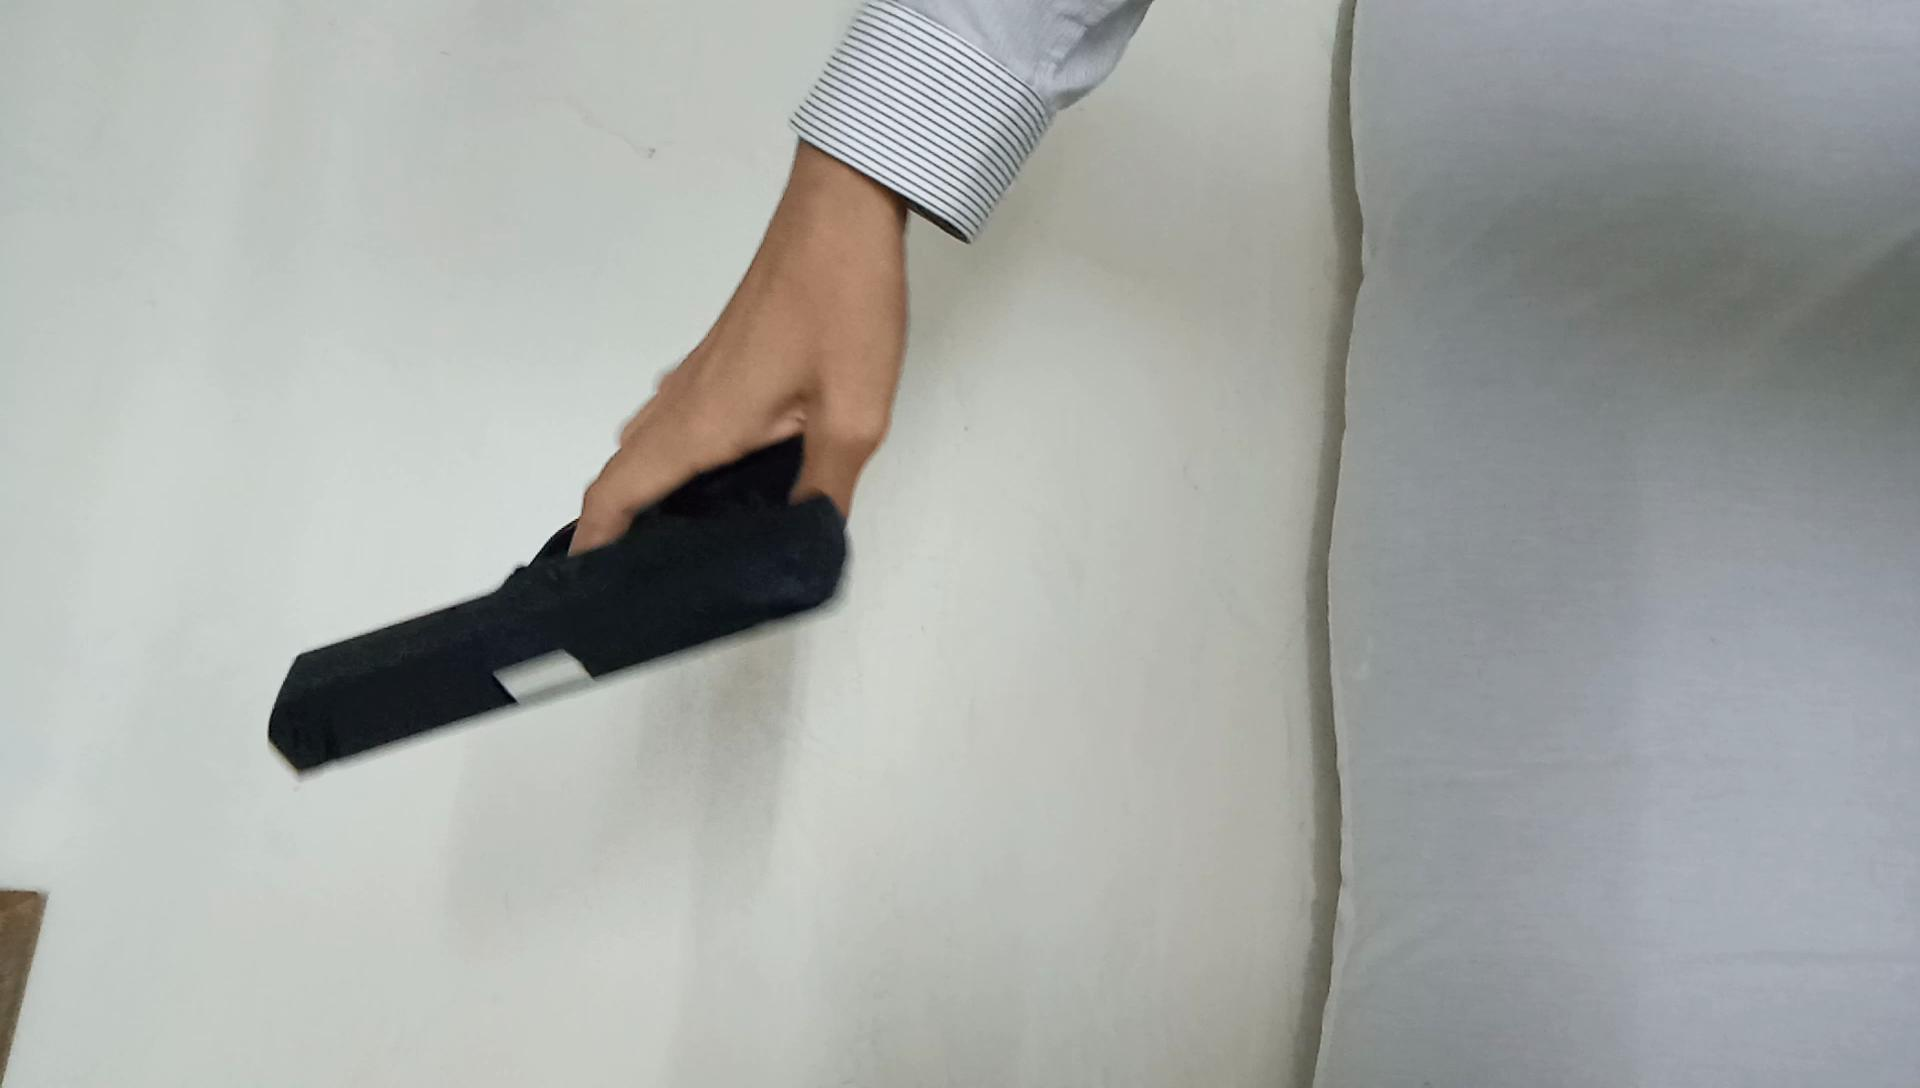weapon: (261, 418, 865, 781)
